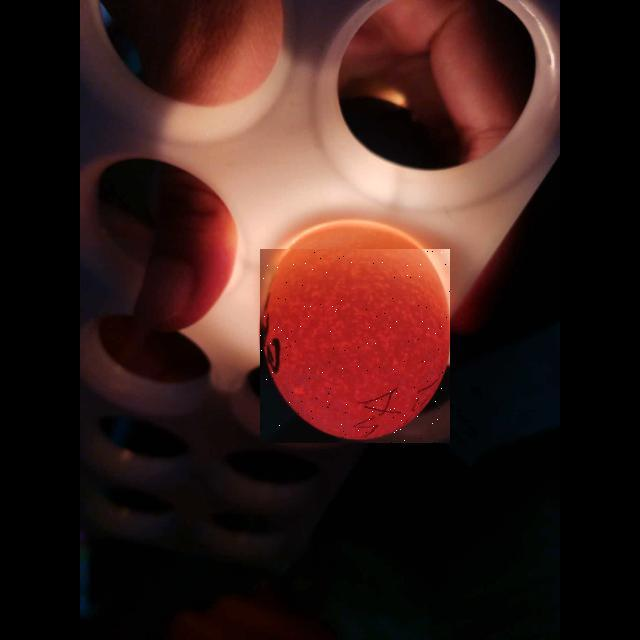Infertile: (260, 249, 450, 443)
